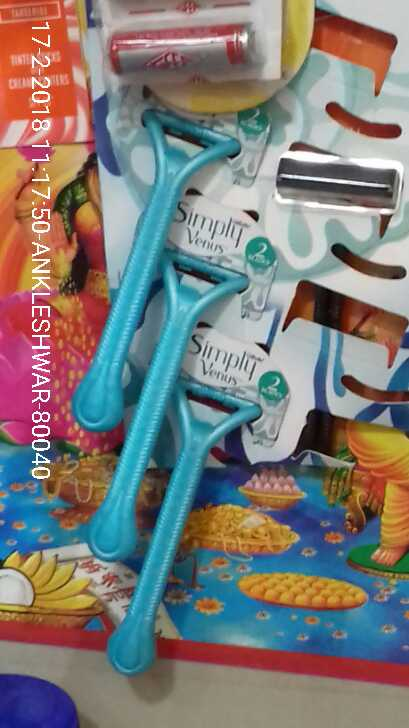reject: (252, 338, 336, 402)
